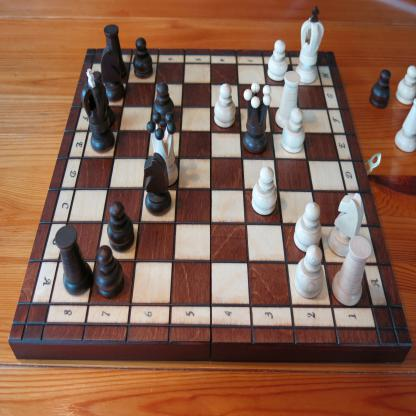black-bishop: (91, 71, 116, 128)
black-king: (81, 67, 115, 154)
black-knight: (144, 152, 172, 217), (100, 45, 125, 103)
black-pawn: (95, 244, 124, 300), (107, 200, 135, 254), (153, 81, 175, 128), (368, 68, 392, 110), (132, 36, 153, 80)
black-queen: (242, 81, 272, 155)
black-rook: (54, 224, 94, 296), (103, 23, 126, 78)
white-bishop: (393, 98, 416, 152)
white-king: (295, 5, 324, 84)
white-knight: (327, 192, 364, 258)
white-pawn: (294, 244, 324, 299), (293, 201, 322, 253), (251, 165, 278, 216), (281, 107, 305, 154), (214, 83, 236, 129), (267, 39, 288, 82), (395, 65, 415, 106)
white-queen: (146, 111, 179, 187)
white-rook: (332, 234, 372, 307), (275, 70, 301, 129)
